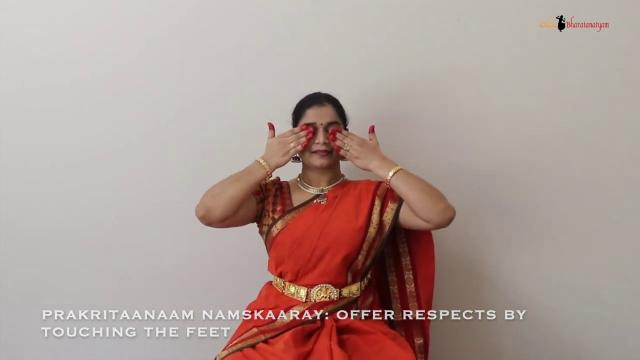ardhachandra: (319, 102, 385, 180), (250, 106, 318, 174)
